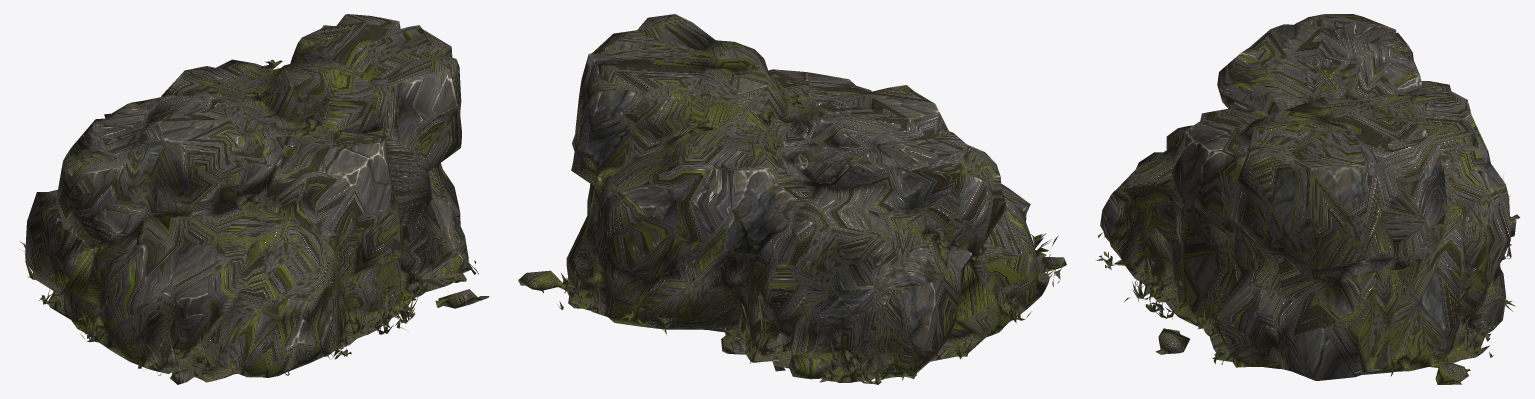
The model's file is rock_big2_mid.glb.
3 renders of one model, left to right at view 1: azimuth 30°, elevation 25°; view 2: azimuth 150°, elevation 25°; view 3: azimuth 270°, elevation 25°, orthographic. The views are drawn at different scales.
Bounding box in the file's own units: 1.83 × 0.852 × 1.54.
Materials: 1 (1 with a texture image).
